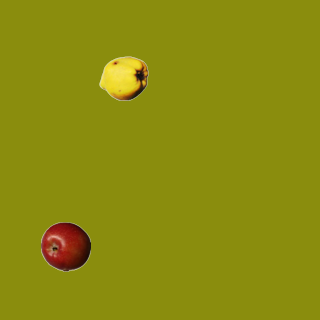Apple Braeburn: (40, 221, 90, 271)
Quince: (98, 53, 148, 103)
